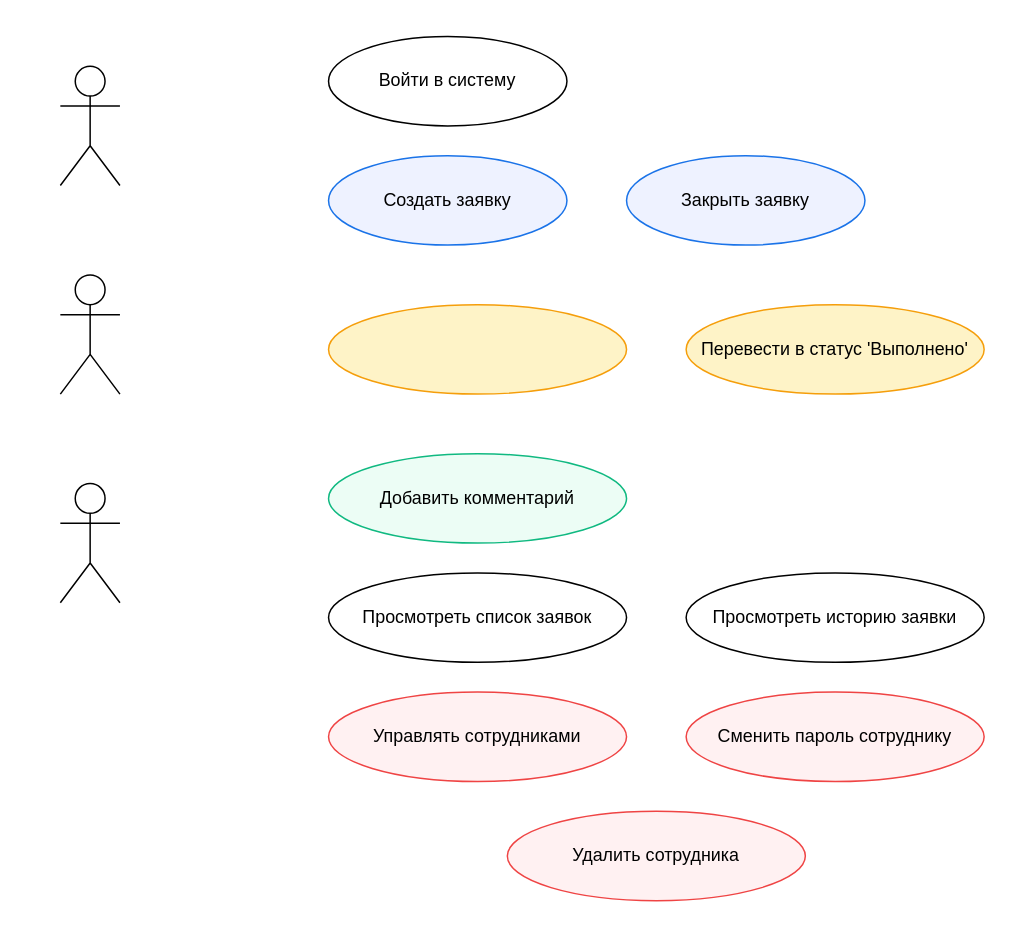
Image size: 1010x927. Some labels were removed from this diagram. Each missing label, with the centre of its shape:
"Администратор" goes at (89,542).
"Взять заявку в работу" goes at (477,348).
"Инженер" goes at (89,333).
"Менеджер" goes at (89,125).
